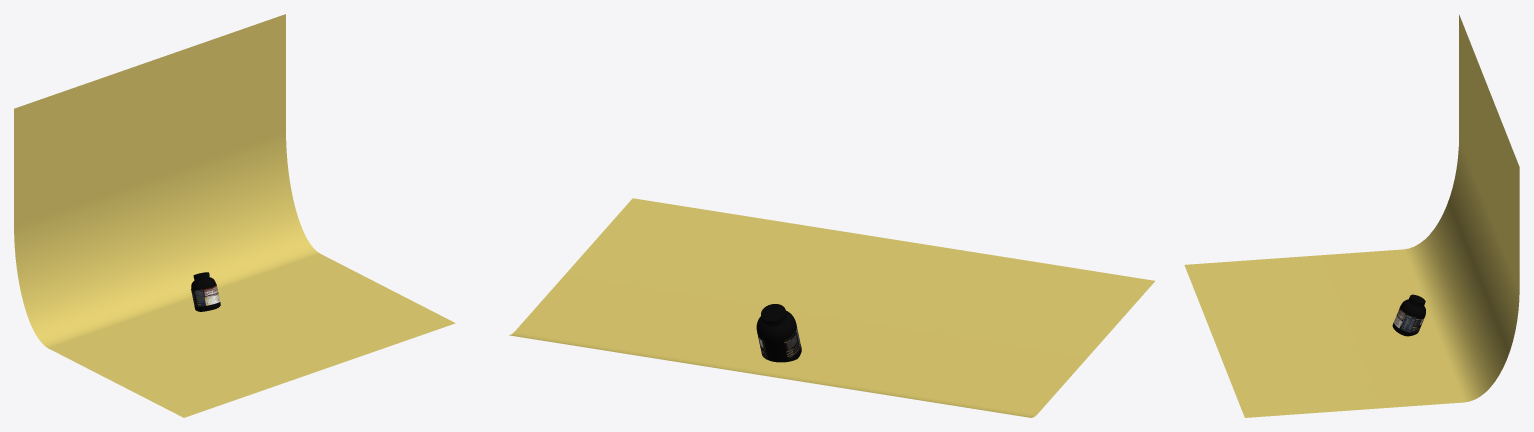
Rendered from vegandream-label.gltf.
The picture shows the model from 3 angles, left to right: view 1: azimuth 30°, elevation 25°; view 2: azimuth 150°, elevation 25°; view 3: azimuth 270°, elevation 25°; orthographic projection. The views are drawn at different scales.
Visible parts, largest first — view 1: Backdrop, MM-Chocolate-peanutButter-2kg 1; view 2: Backdrop, MM-Chocolate-peanutButter-2kg 1, B0008_01_pCylinder1; view 3: Backdrop, MM-Chocolate-peanutButter-2kg 1, B0008_01_pCylinder1.
Part boxes in pixels (box(x1,y1,x2,y2)): Backdrop: box(14, 14, 455, 417); MM-Chocolate-peanutButter-2kg 1: box(191, 284, 220, 310); Backdrop: box(509, 198, 1154, 417); MM-Chocolate-peanutButter-2kg 1: box(757, 324, 801, 362); B0008_01_pCylinder1: box(756, 310, 796, 346); Backdrop: box(1184, 14, 1519, 417); MM-Chocolate-peanutButter-2kg 1: box(1392, 306, 1425, 336); B0008_01_pCylinder1: box(1393, 299, 1425, 336).
Size of the model in its own units: 3.69 by 2.35 by 3.03.
4 materials, 2 textured.
